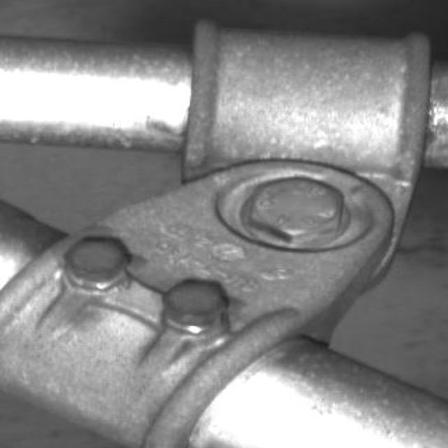nut2: (246, 176, 349, 245)
screw2: (158, 277, 234, 327), (64, 235, 131, 286)
